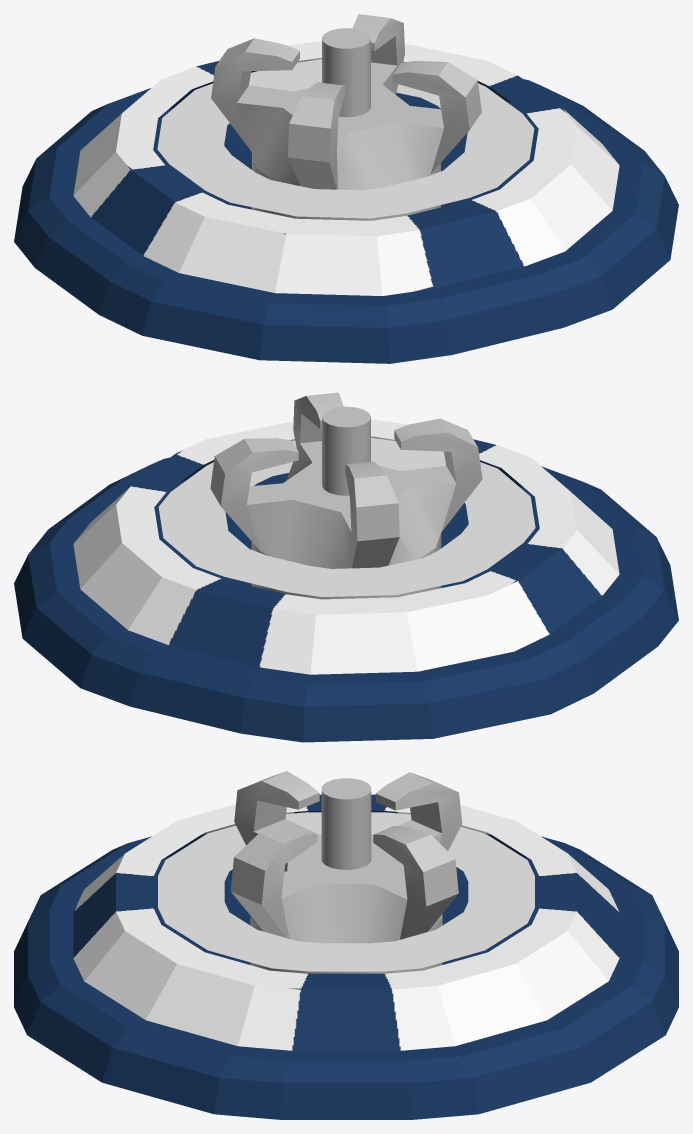
Rendered from Thermal_Discouragement_Beam.fbx.
3 renders of one model, top to bottom at view 1: azimuth 30°, elevation 25°; view 2: azimuth 150°, elevation 25°; view 3: azimuth 270°, elevation 25°, orthographic. The views are drawn at different scales.
Visible parts, largest first — view 1: Base, Laser Tube, Glass Circle; view 2: Base, Laser Tube, Glass Circle; view 3: Base, Laser Tube, Glass Circle.
Part boxes in pixels (left/top/right/bottom): Base: left=14, top=41, right=678, bottom=363; Laser Tube: left=211, top=14, right=481, bottom=220; Glass Circle: left=157, top=59, right=534, bottom=218; Base: left=14, top=420, right=678, bottom=742; Laser Tube: left=210, top=392, right=482, bottom=599; Glass Circle: left=158, top=437, right=535, bottom=596; Base: left=14, top=794, right=678, bottom=1119; Laser Tube: left=230, top=771, right=462, bottom=973; Glass Circle: left=158, top=812, right=534, bottom=971.
Bounding box in the file's own units: 279 × 88.11 × 279.
